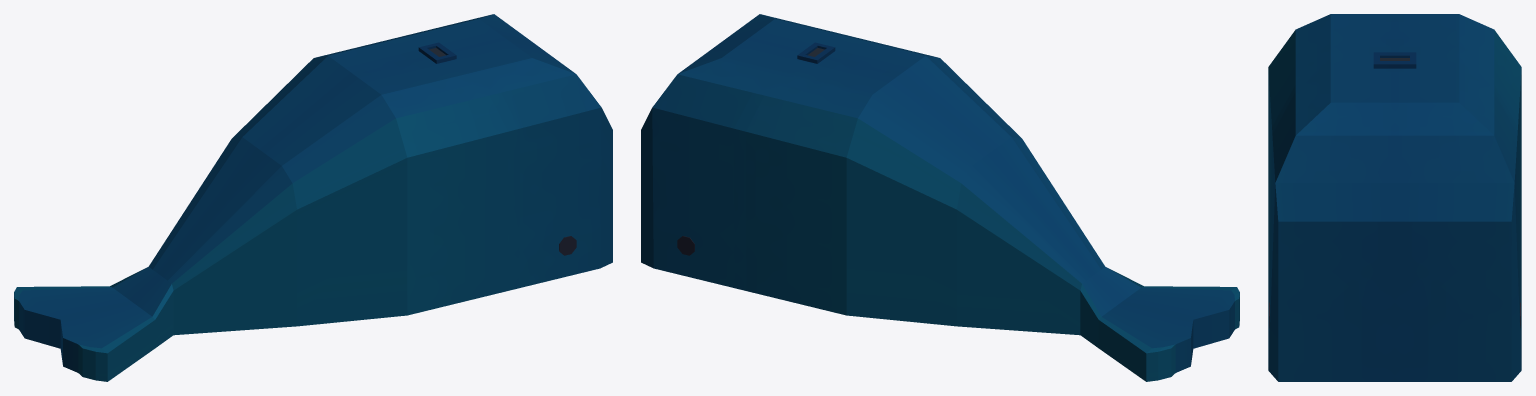
The model's file is Town_FountainWhale.fbx.
3 renders of one model, left to right at view 1: azimuth 30°, elevation 25°; view 2: azimuth 150°, elevation 25°; view 3: azimuth 270°, elevation 25°, orthographic. The views are drawn at different scales.
Parts seen in each view (by area): view 1: Cube.583; view 2: Cube.583; view 3: Cube.583.
Part boxes in pixels (left/top/right/bottom): Cube.583: left=14, top=14, right=612, bottom=381; Cube.583: left=641, top=14, right=1239, bottom=381; Cube.583: left=1268, top=14, right=1521, bottom=381.
Size of the model in its own units: 351 by 133 by 123.
